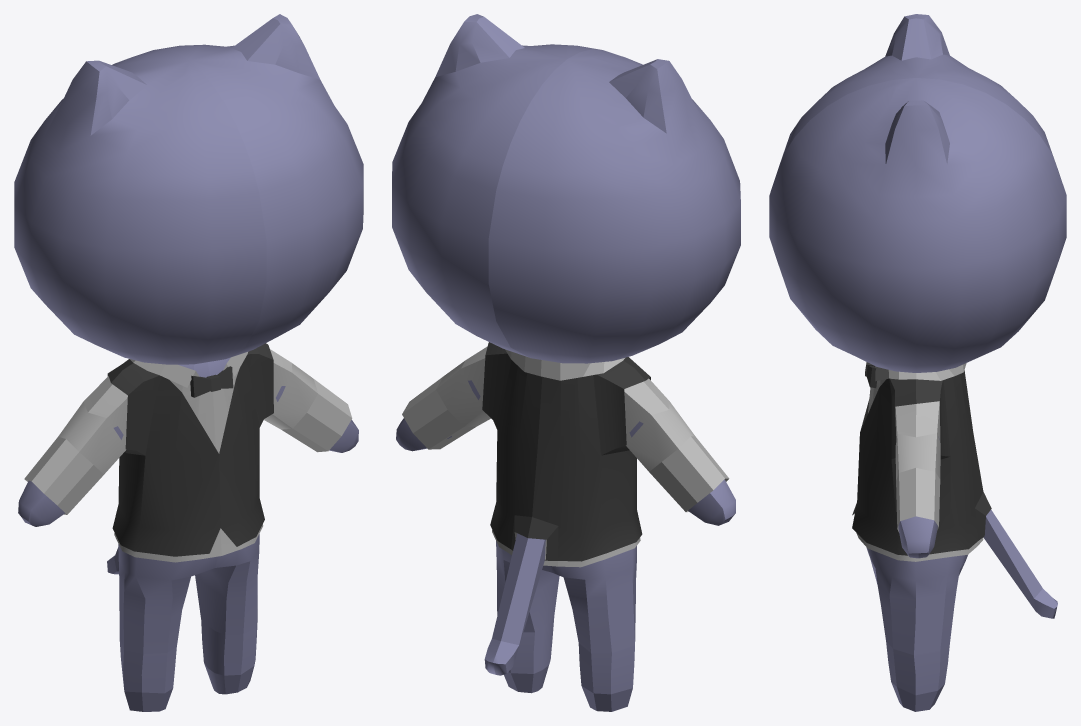
Rendered from DealerProxy.fbx.
3 views of the same model, side by side, from view 1: azimuth 30°, elevation 25°; view 2: azimuth 150°, elevation 25°; view 3: azimuth 270°, elevation 25° (orthographic). The views are drawn at different scales.
Parts seen in each view (by area): view 1: cat_low, cat_low9, cat_low6, pCube1; view 2: cat_low, cat_low9, cat_low6; view 3: cat_low, cat_low9, cat_low6.
Part boxes in pixels (x1,y1,x2,y2): cat_low: [14, 14, 363, 711]; cat_low9: [107, 343, 273, 556]; cat_low6: [24, 349, 352, 562]; pCube1: [190, 366, 233, 397]; cat_low: [392, 14, 740, 711]; cat_low9: [482, 342, 650, 561]; cat_low6: [402, 346, 729, 567]; cat_low: [769, 14, 1066, 711]; cat_low9: [852, 370, 991, 555]; cat_low6: [856, 363, 983, 561].
Bounding box in the file's own units: 0.6366 × 1.2 × 0.5128.
